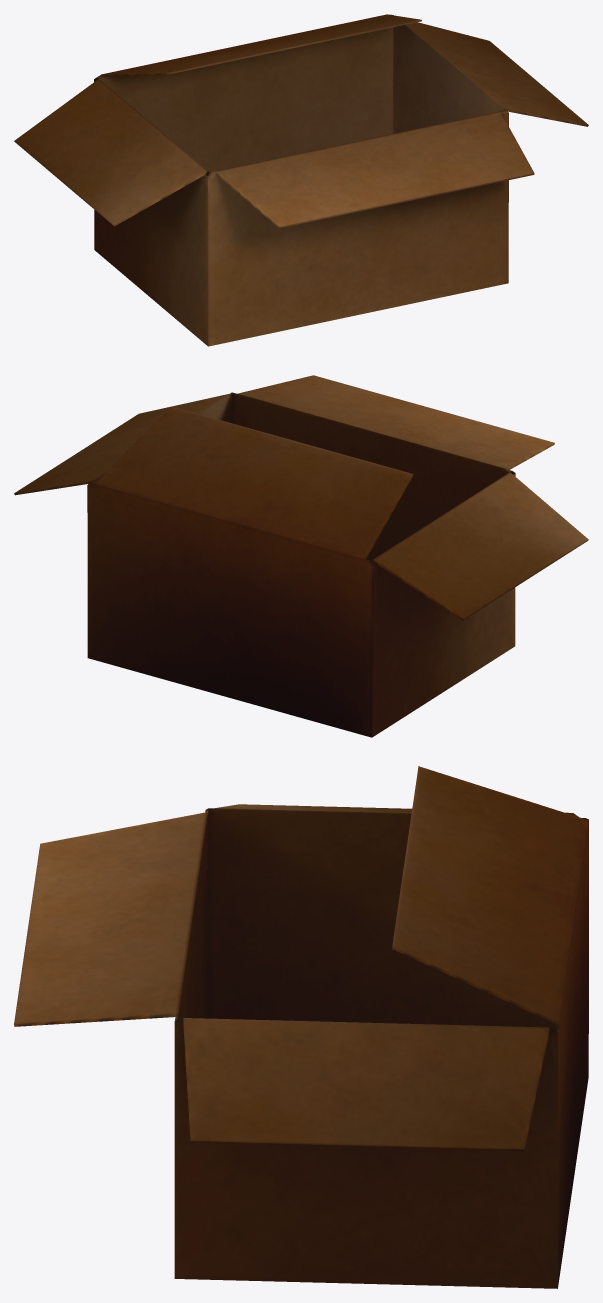
File: G2_DM_cartons_4.gltf
3 views of the same model, one above another, from view 1: azimuth 30°, elevation 25°; view 2: azimuth 150°, elevation 25°; view 3: azimuth 270°, elevation 25° (orthographic). The views are drawn at different scales.
Visible parts, largest first — view 1: carton.003; view 2: carton.003; view 3: carton.003.
Part boxes in pixels (box(x1,y1,x2,y2)): carton.003: box(14, 14, 588, 346); carton.003: box(14, 375, 588, 737); carton.003: box(14, 766, 588, 1288).
Bounding box in the file's own units: 0.8564 × 0.372 × 0.6025.
1 material, 1 textured.
